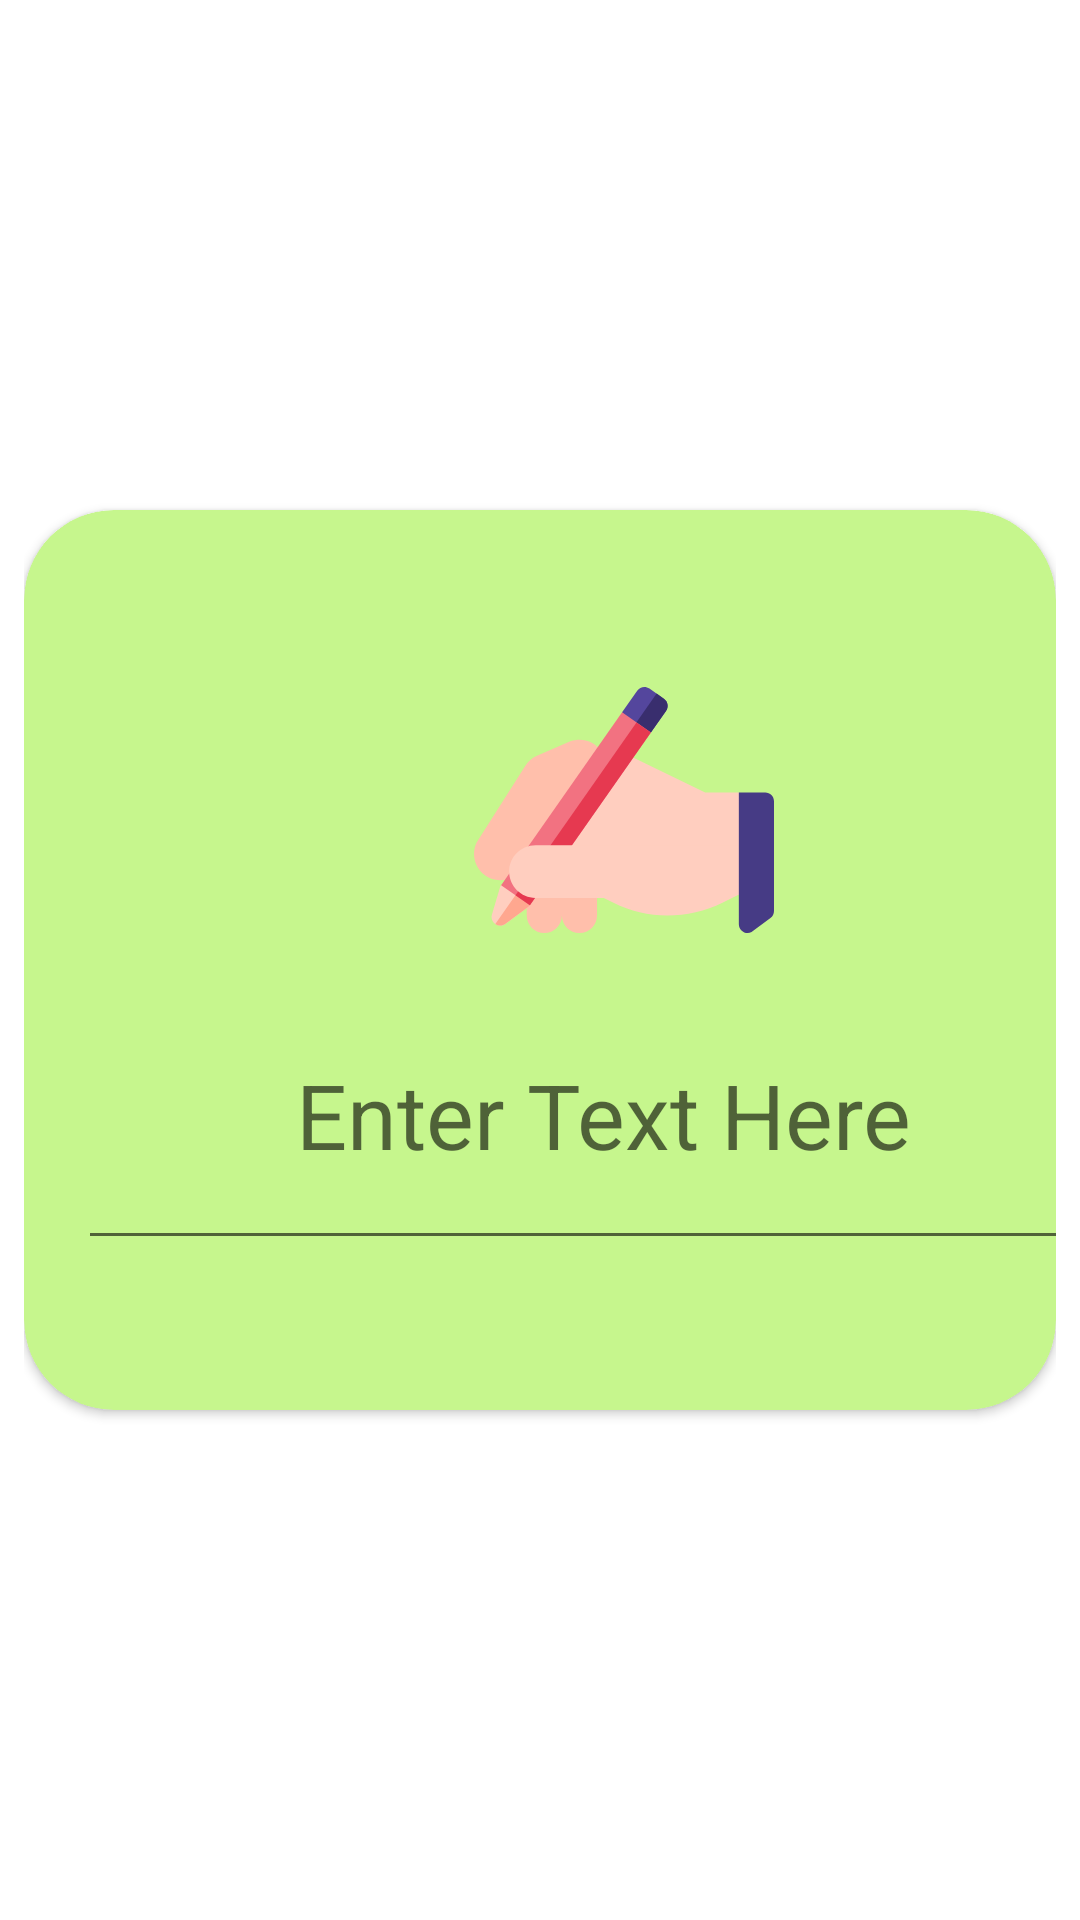

Locate icon controls on the screen. Image size 1080px x 1920px, boxes as (x1, y1, x2, y2).
writing: (474, 687, 774, 933)
